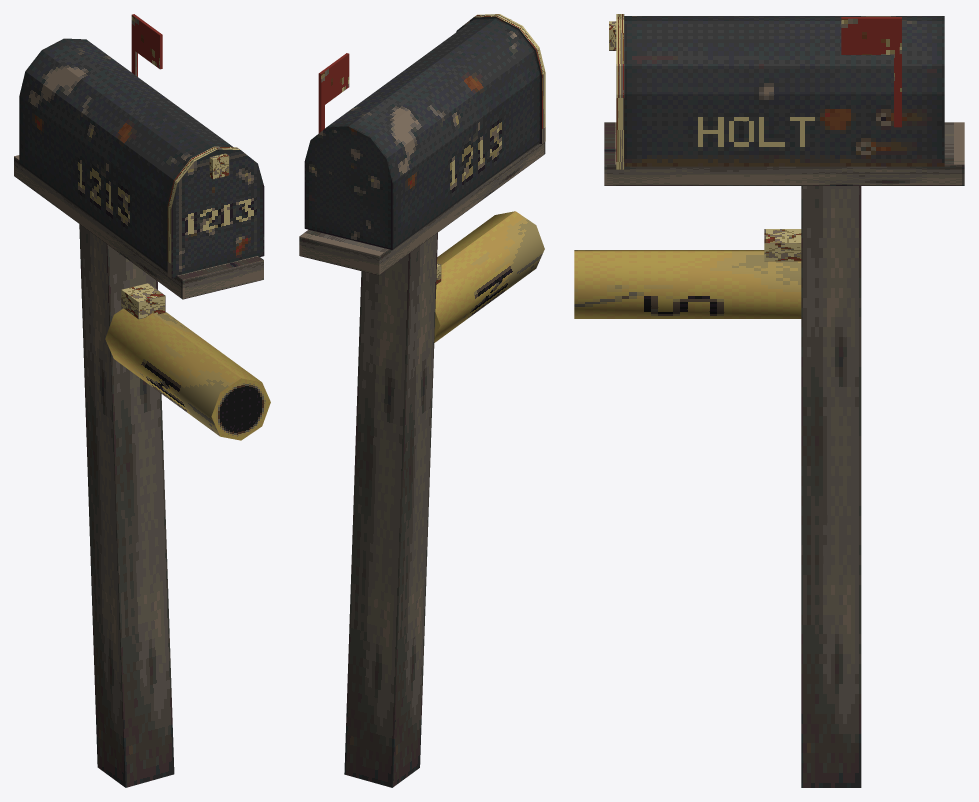
File: mailbox.glb
The picture shows the model from 3 angles, left to right: view 1: azimuth 30°, elevation 25°; view 2: azimuth 150°, elevation 25°; view 3: azimuth 270°, elevation 25°; orthographic projection. The views are drawn at different scales.
Visible parts, largest first — view 1: mailbox; view 2: mailbox; view 3: mailbox.
Boxes of the visible parts, box(x1,y1,x2,y2) form: mailbox: box(14, 14, 270, 787); mailbox: box(299, 14, 545, 787); mailbox: box(574, 14, 964, 787).
Bounding box in the file's own units: 0.1788 × 1.28 × 0.585.
Materials: 1 (1 with a texture image).
